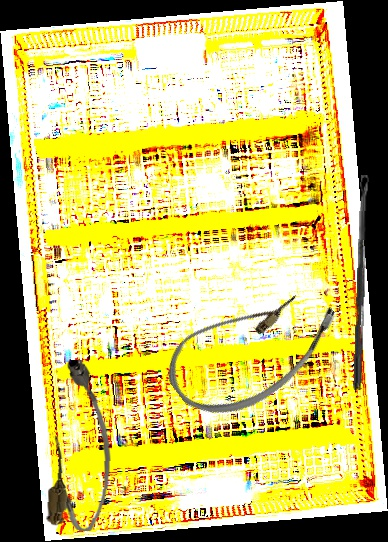Cannula: (153, 256, 352, 440), (45, 358, 119, 533)
Surgical Spoon: (353, 174, 370, 391)
